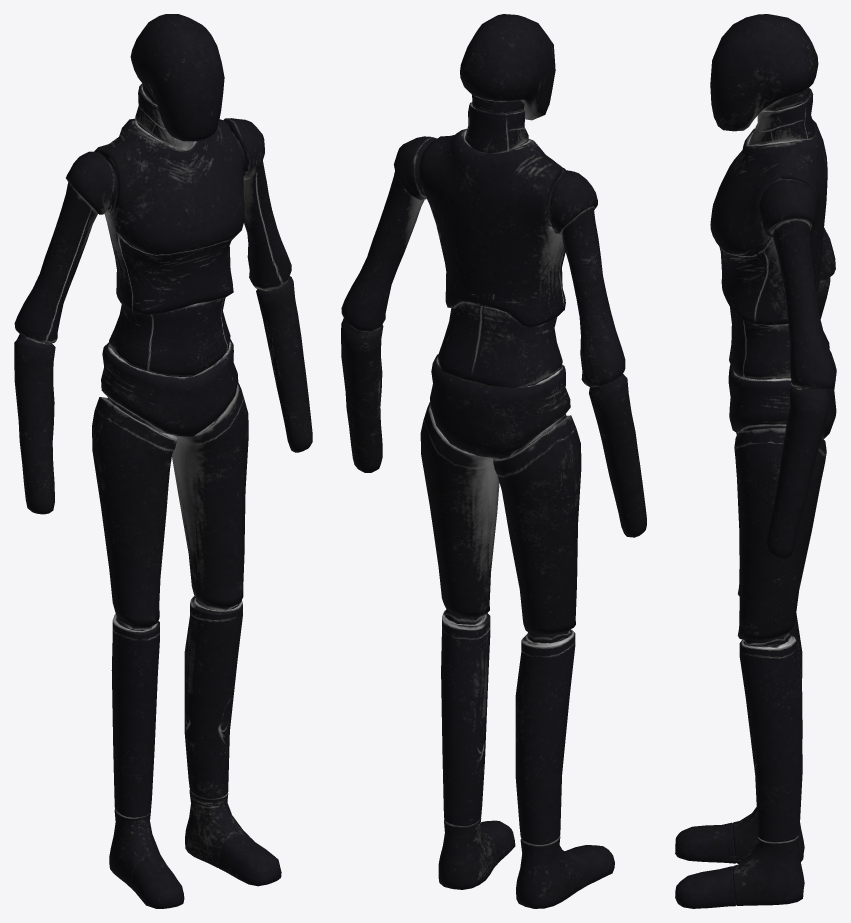
File: scp650.obj
3 views of the same model, side by side, from view 1: azimuth 30°, elevation 25°; view 2: azimuth 150°, elevation 25°; view 3: azimuth 270°, elevation 25° (orthographic). The views are drawn at different scales.
Visible parts, largest first — view 1: 650; view 2: 650; view 3: 650.
Part boxes in pixels (left/top/right/bottom): 650: left=14, top=14, right=312, bottom=908; 650: left=341, top=14, right=646, bottom=908; 650: left=675, top=14, right=836, bottom=908.
Size of the model in its own units: 0.8831 by 2.51 by 0.4277.
1 material, 1 textured.
